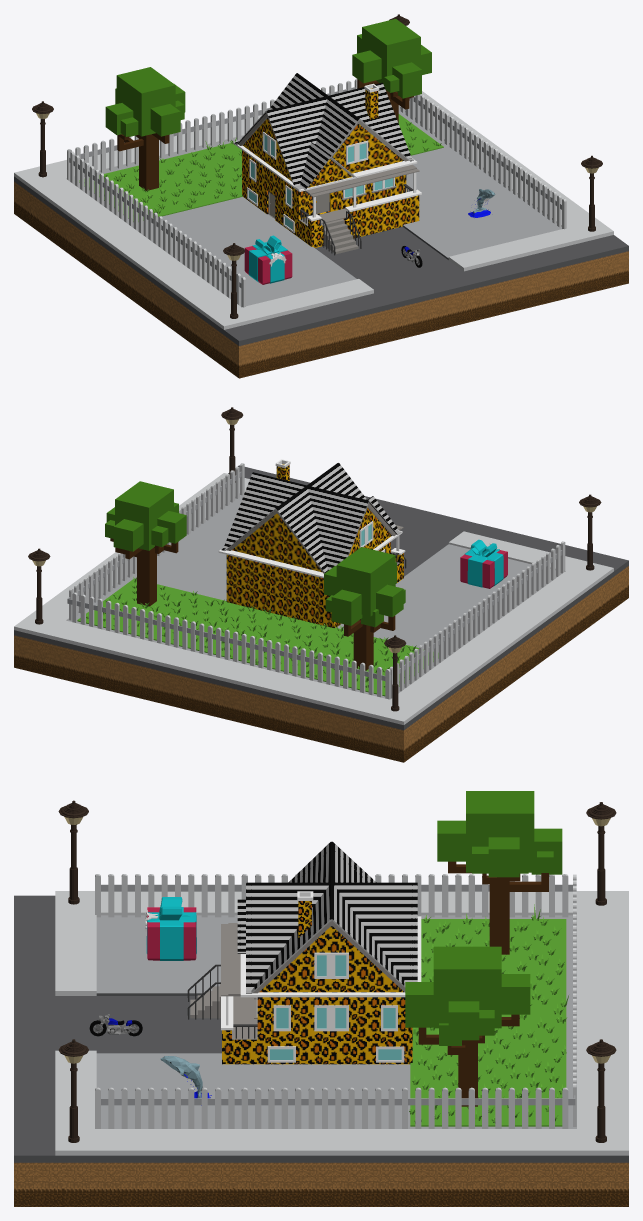
The picture shows the model from 3 angles, top to bottom: view 1: azimuth 30°, elevation 25°; view 2: azimuth 150°, elevation 25°; view 3: azimuth 270°, elevation 25°; orthographic projection. The views are drawn at different scales.
Parts seen in each view (by area): view 1: Cube.004, Cube.637, OBJRANDOM_GIANT_PRESENT; view 2: Cube.004, Cube.637, OBJRANDOM_GIANT_PRESENT; view 3: Cube.004, Cube.637, OBJRANDOM_GIANT_PRESENT, VEHICLES_CHOPPER, ANIMAL_DELFIN.
Boxes of the visible parts, x1,y1,x2,y2 form: Cube.004: (14,14,628,378); Cube.637: (233,73,421,255); OBJRANDOM_GIANT_PRESENT: (244,235,292,284); Cube.004: (14,407,628,762); Cube.637: (218,459,406,627); OBJRANDOM_GIANT_PRESENT: (460,539,507,588); Cube.004: (14,791,628,1206); Cube.637: (187,841,421,1064); OBJRANDOM_GIANT_PRESENT: (145,897,196,960); VEHICLES_CHOPPER: (89,1014,142,1036); ANIMAL_DELFIN: (160,1056,211,1105).
Bounding box in the file's own units: 4000 × 1579 × 4000.
32 materials, 4 textured.
